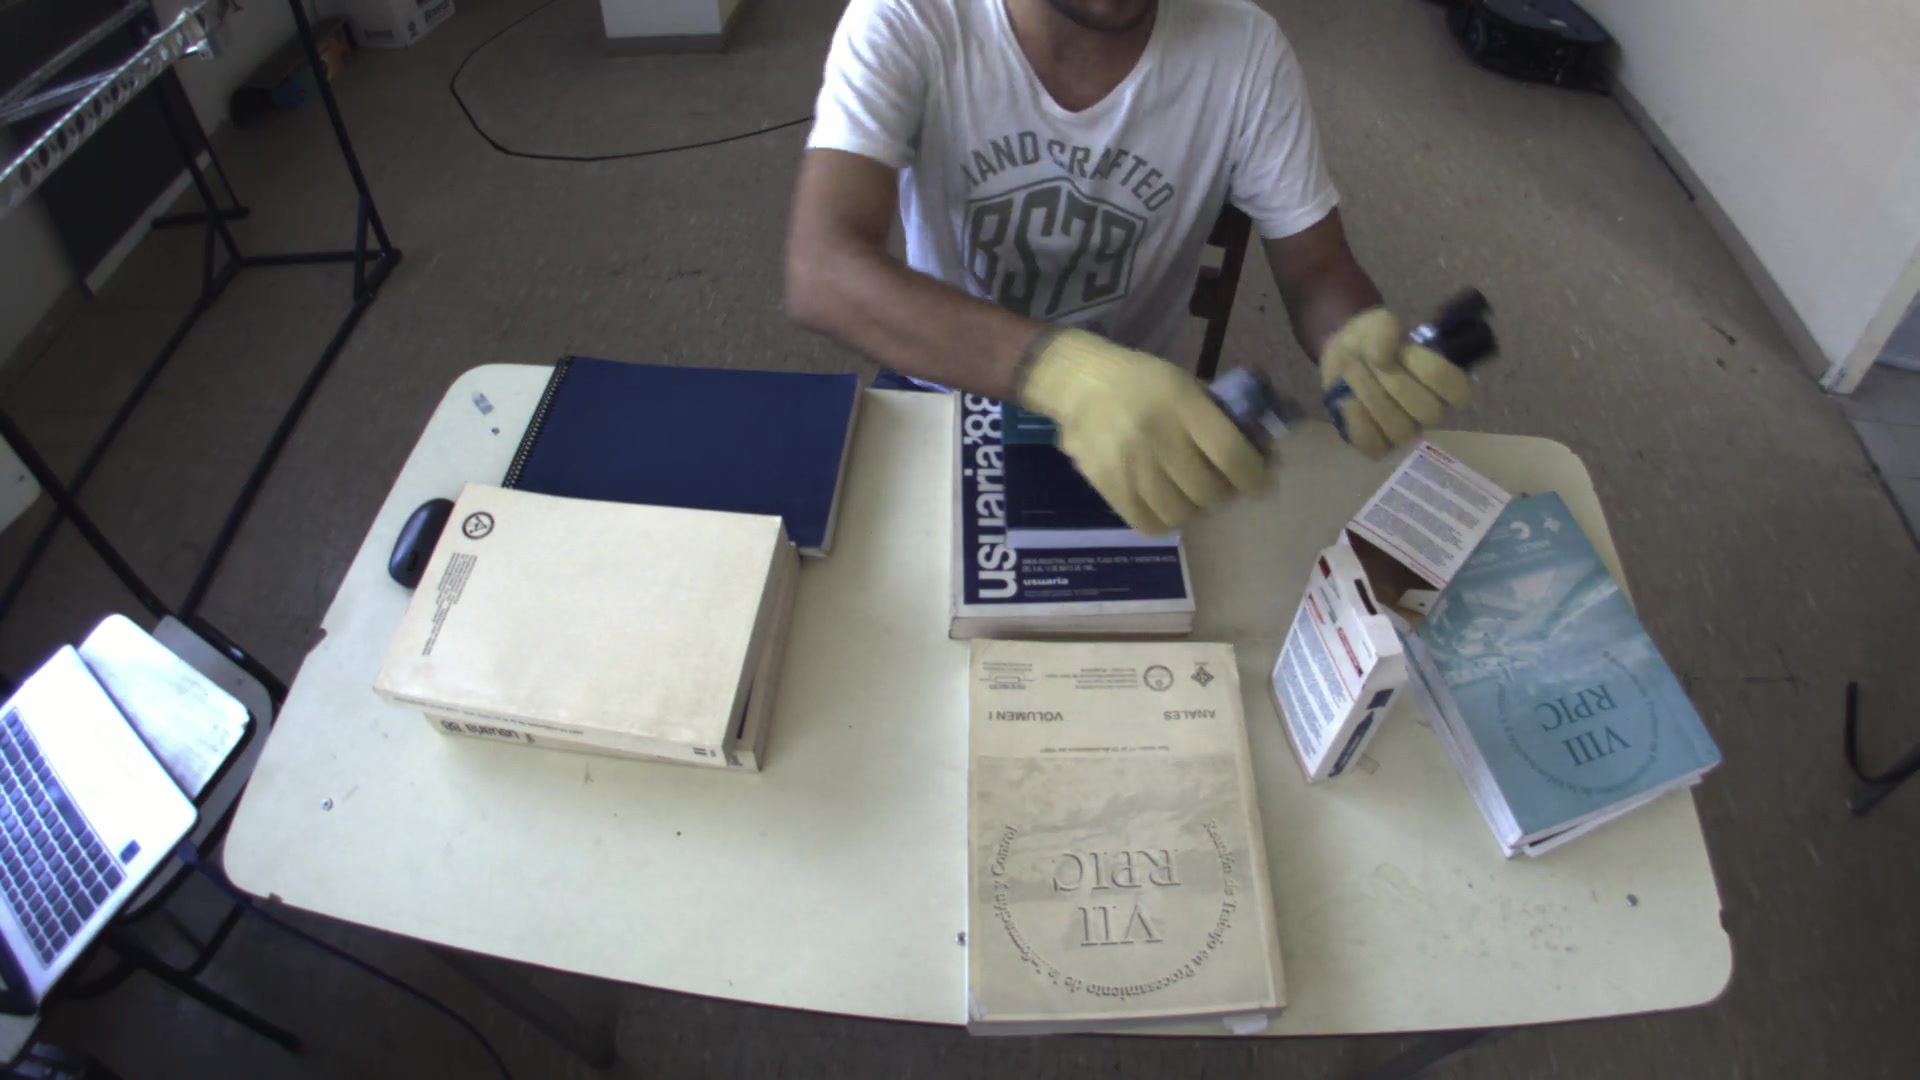hand: (1023, 320, 1270, 539), (1308, 301, 1476, 448)
